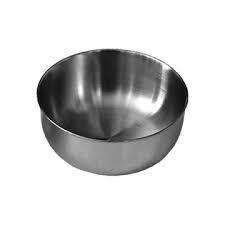Sponge Bowl: (34, 45, 190, 178)
